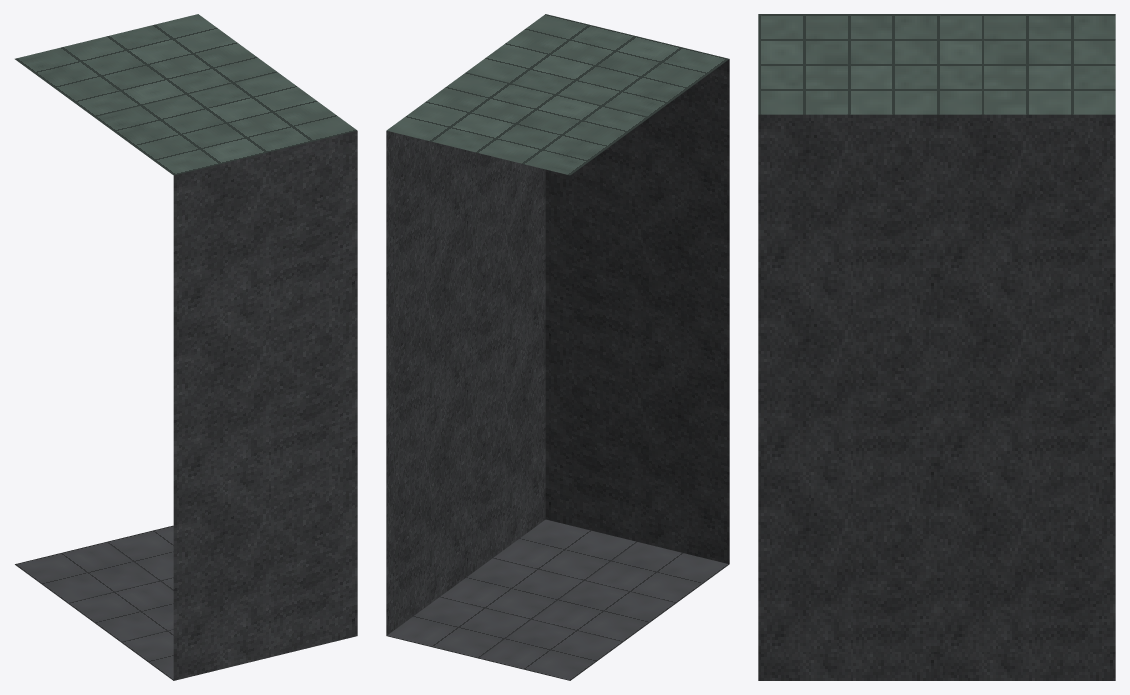
Rendered from landing.obj.
The picture shows the model from 3 angles, left to right: view 1: azimuth 30°, elevation 25°; view 2: azimuth 150°, elevation 25°; view 3: azimuth 270°, elevation 25°; orthographic projection. The views are drawn at different scales.
Bounding box in the file's own units: 160 × 420 × 240.
Materials: 3 (3 with a texture image).
